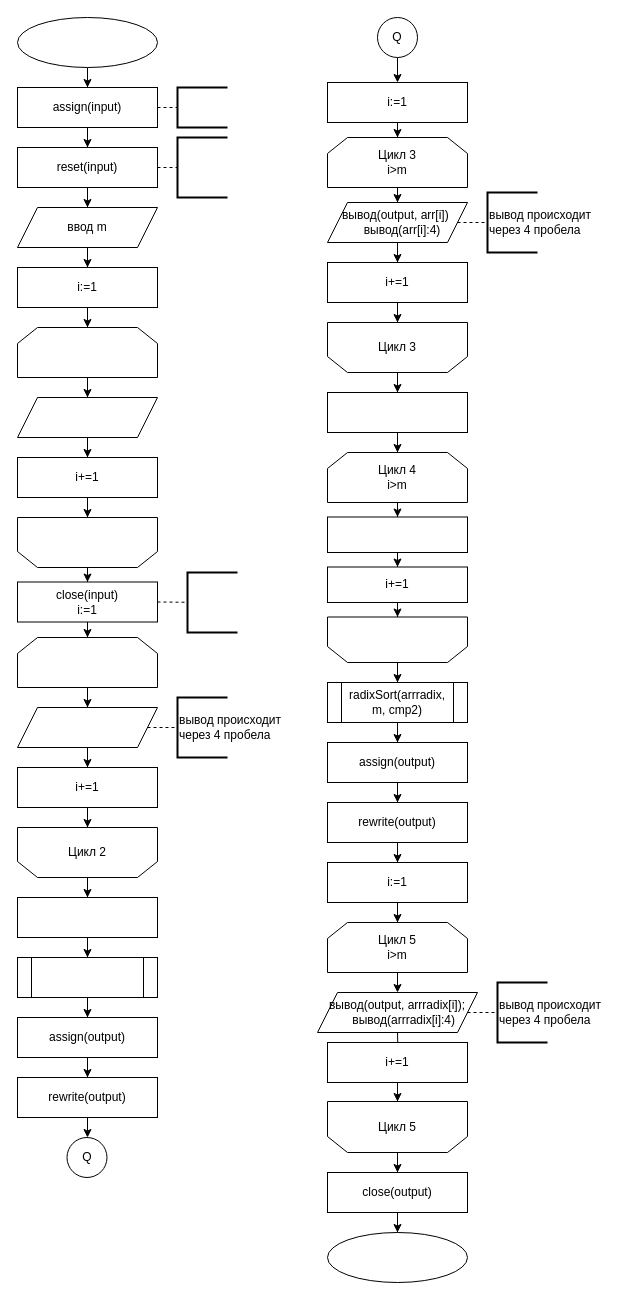
Some shapes in this 619 by 1300 pixel diagram are drawn without their labels. The shapes that lost their labels are listed below. From the top down, each one's box as (x1, y1, x2, y2) in pixels, then its label:
(16, 16, 158, 68): начало
(176, 86, 228, 128): назначает файловой переменой имя внешнего файла
(176, 136, 228, 198): открывает существующий файл для чтения
(16, 326, 158, 378): Цикл 1 i>m
(16, 396, 158, 438): read(input, arr[i])
(326, 392, 468, 432): close(output) i:=1
(16, 516, 158, 568): Цикл 1
(326, 516, 468, 552): arrradix[i] := arr[i]
(186, 571, 238, 633): закрытие файла после считывания
(326, 616, 468, 662): Цикл 4
(16, 636, 158, 688): Цикл 2 i>m
(16, 706, 158, 748): вывод (arr[i]:4)
(16, 896, 158, 938): close(input)
(16, 956, 158, 998): sortarr(arr, m, cmp1)
(326, 1232, 468, 1282): конец
